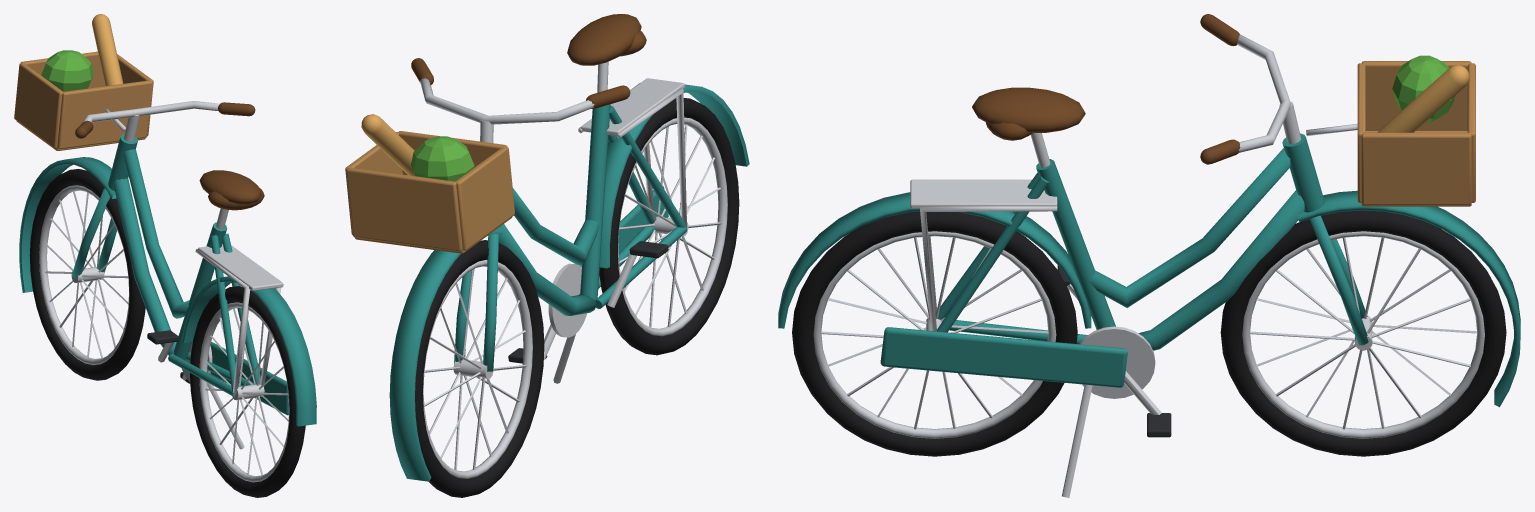
The model's file is bicycle_teal.fbx.
3 renders of one model, left to right at view 1: azimuth 30°, elevation 25°; view 2: azimuth 150°, elevation 25°; view 3: azimuth 270°, elevation 25°, orthographic. The views are drawn at different scales.
Visible parts, largest first — view 1: bicycle_teal; view 2: bicycle_teal; view 3: bicycle_teal.
Boxes of the visible parts, <box> form: bicycle_teal: <box>14,14,316,497</box>; bicycle_teal: <box>345,14,749,497</box>; bicycle_teal: <box>778,14,1520,497</box>.
Bounding box in the file's own units: 0.6762 × 1.18 × 1.82.
